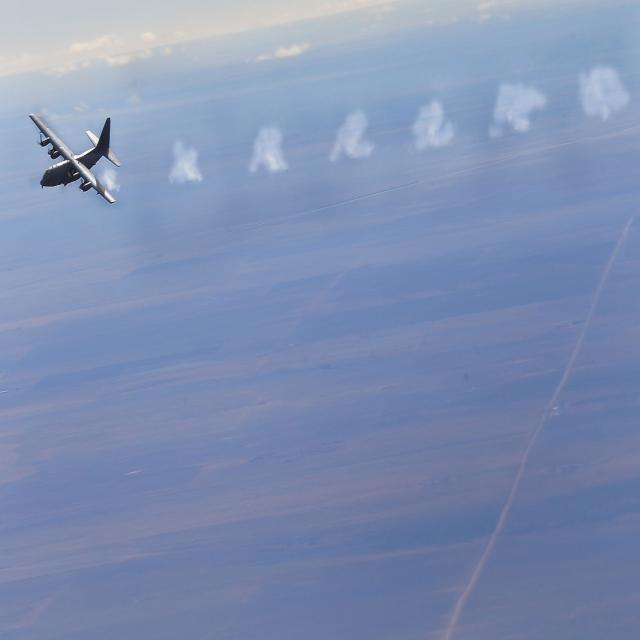MIL_Plane: (28, 112, 122, 204)
